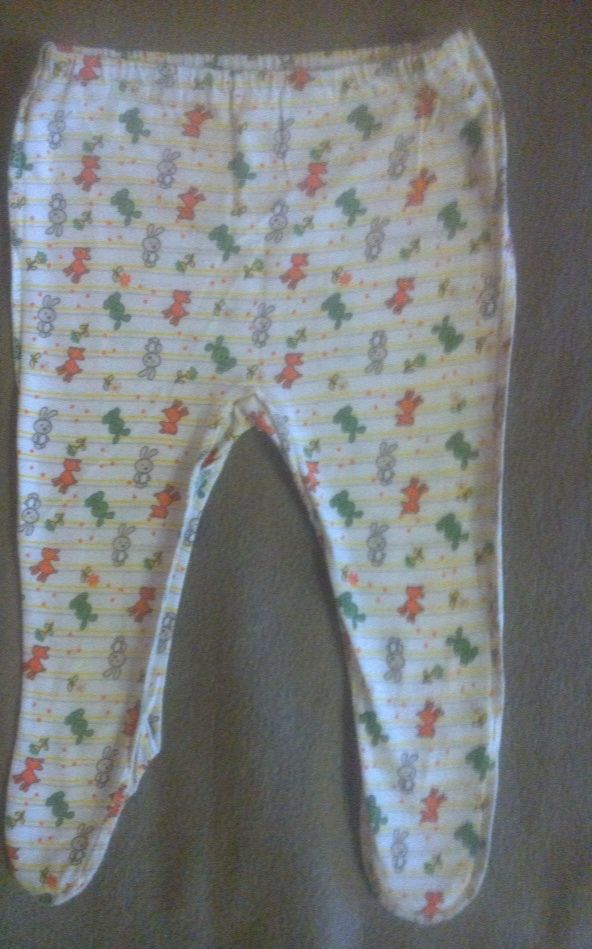clothes: (1, 40, 497, 919)
